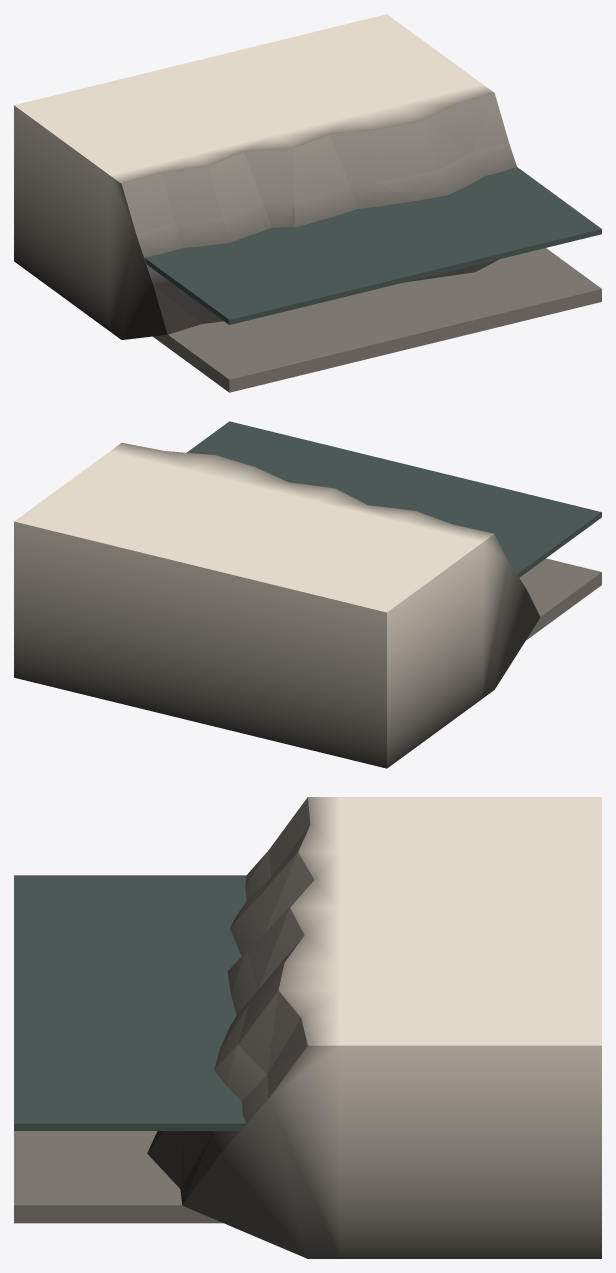
File: SM_VKI_Ground_Stream_XXOO_Q11.fbx
3 renders of one model, top to bottom at view 1: azimuth 30°, elevation 25°; view 2: azimuth 150°, elevation 25°; view 3: azimuth 270°, elevation 25°, orthographic. The views are drawn at different scales.
Parts seen in each view (by area): view 1: SM_VKI_Ground_Stream_XXOO_Q11.001; view 2: SM_VKI_Ground_Stream_XXOO_Q11.001; view 3: SM_VKI_Ground_Stream_XXOO_Q11.001.
Boxes of the visible parts, x1,y1,x2,y2 form: SM_VKI_Ground_Stream_XXOO_Q11.001: [14, 14, 601, 392]; SM_VKI_Ground_Stream_XXOO_Q11.001: [14, 421, 601, 768]; SM_VKI_Ground_Stream_XXOO_Q11.001: [14, 797, 601, 1258].
Bounding box in the file's own units: 1.5 × 0.6 × 1.5.
